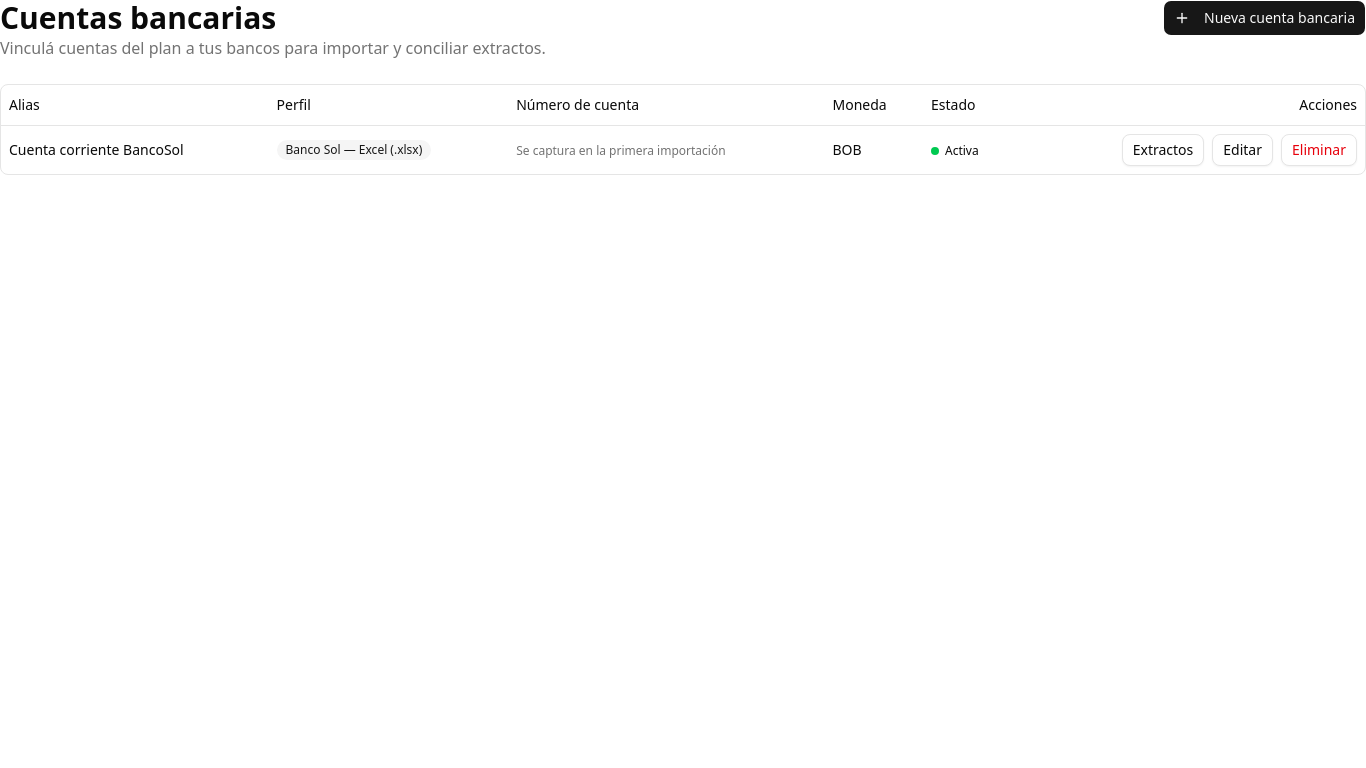
Test case: CuentasBancariasPage — drawer de extractos (tarea 5.39) › abrir el drawer muestra el historial de la cuenta elegida
The width and height of the screenshot is (1366, 768).
Click the button "Extractos": (1163, 150) [1122,134,1204,166]
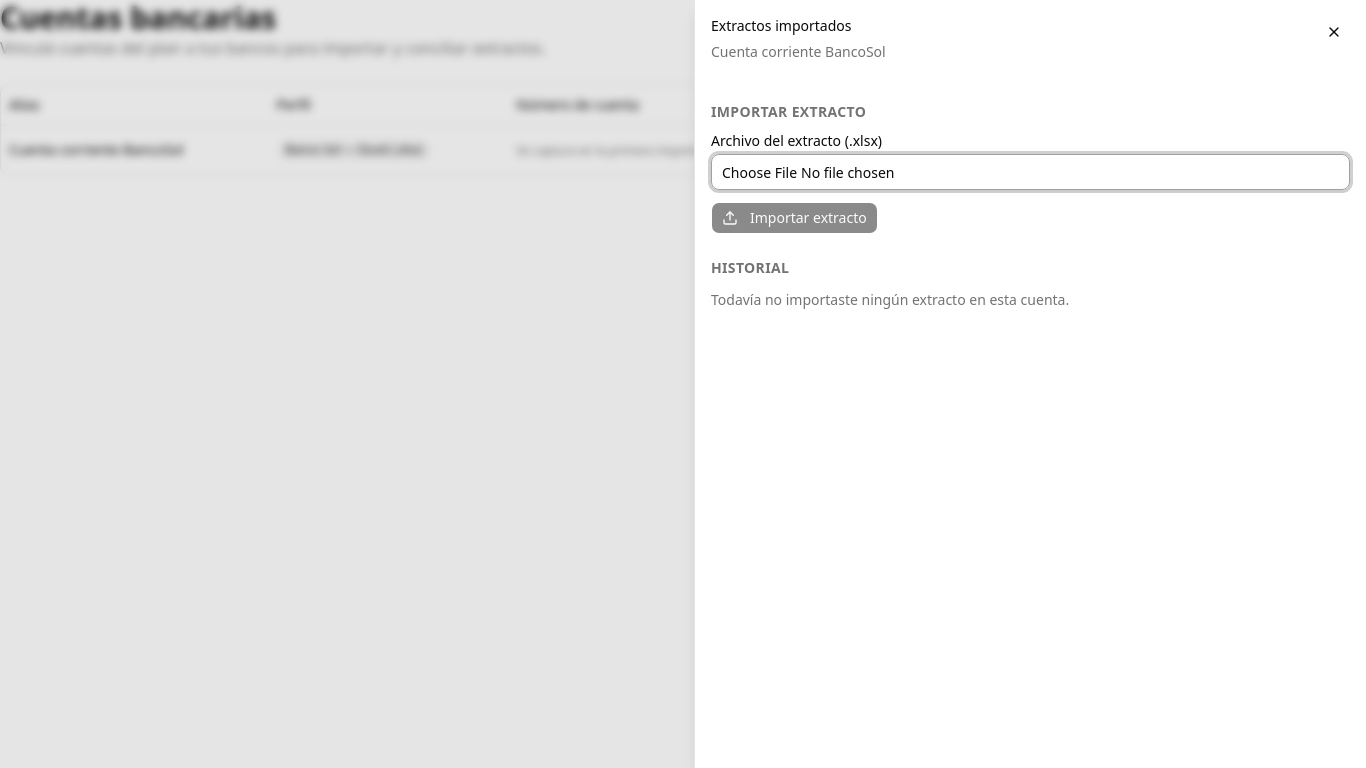
Now the heading "Extractos importados" is shown, box [711,16,852,35]
Now the text "Todavía no importaste ningún extracto en esta cuenta." is shown, box [711,290,1069,309]
